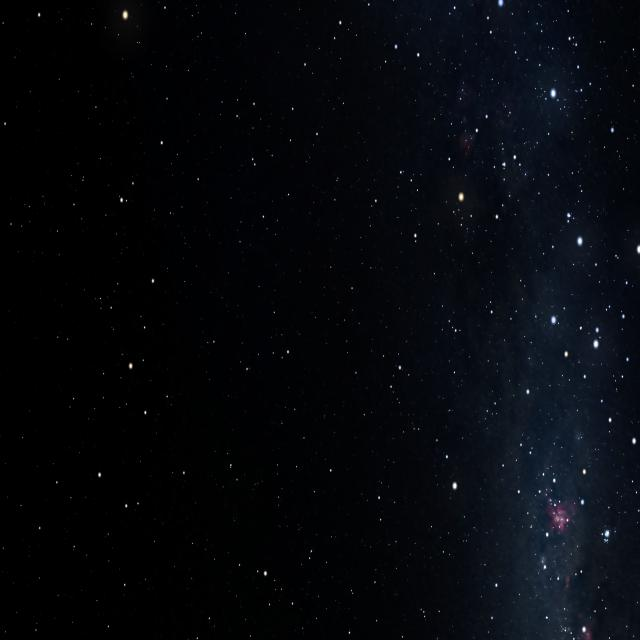Antlia: (284, 282, 356, 356)
